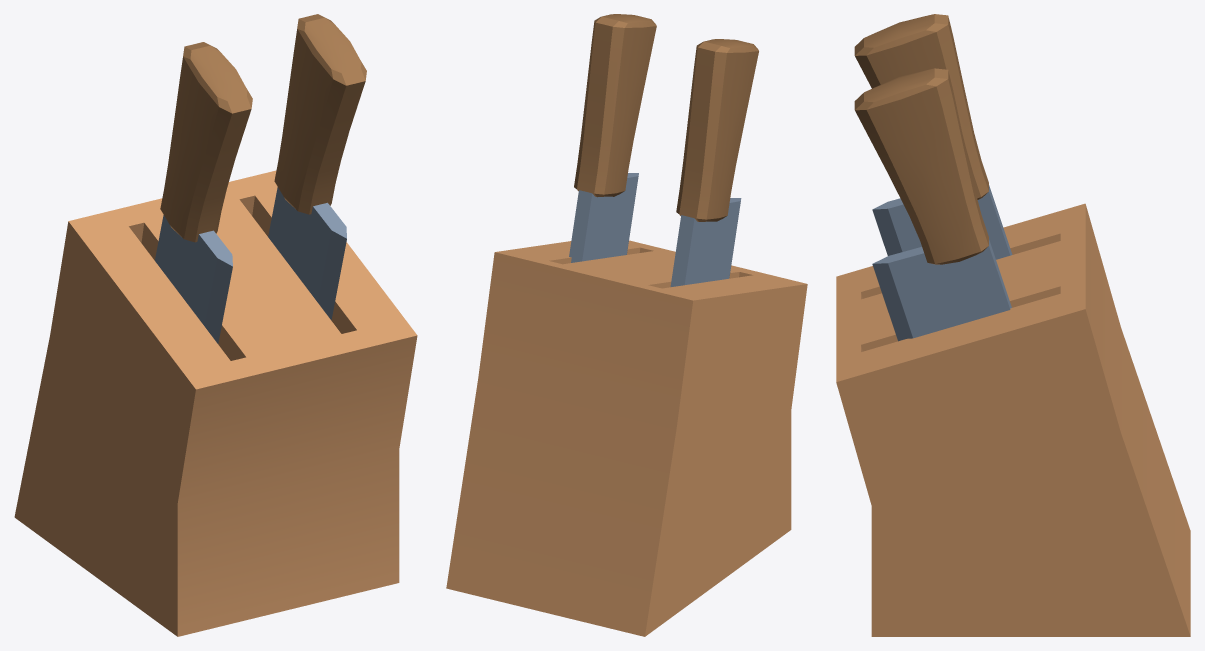
Rendered from quaternius-sushi-restaurant-environment-kitchenknives.glb.
The picture shows the model from 3 angles, left to right: view 1: azimuth 30°, elevation 25°; view 2: azimuth 150°, elevation 25°; view 3: azimuth 270°, elevation 25°; orthographic projection. The views are drawn at different scales.
Visible parts, largest first — view 1: Environment_KitchenKnives; view 2: Environment_KitchenKnives; view 3: Environment_KitchenKnives.
Boxes of the visible parts, bbox=[...] form: Environment_KitchenKnives: bbox=[14, 14, 417, 636]; Environment_KitchenKnives: bbox=[446, 14, 807, 636]; Environment_KitchenKnives: bbox=[836, 14, 1190, 636].
Size of the model in its own units: 0.5938 by 1.41 by 0.8427.
1 material, 1 textured.
